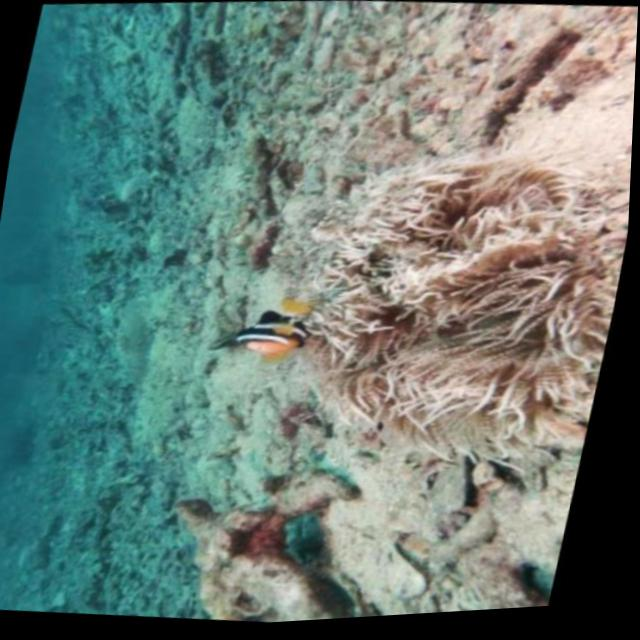Dead Coral: (115, 439, 412, 634), (285, 0, 537, 171)
